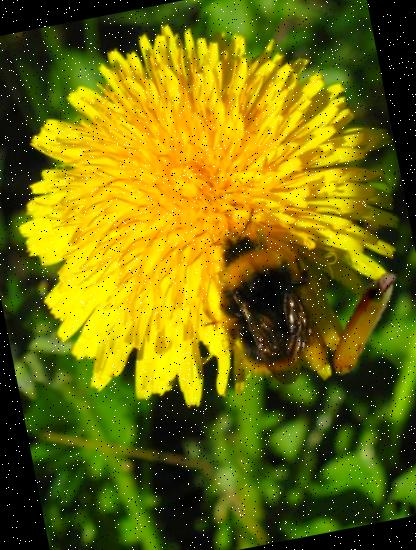Banana: (292, 251, 416, 393)
